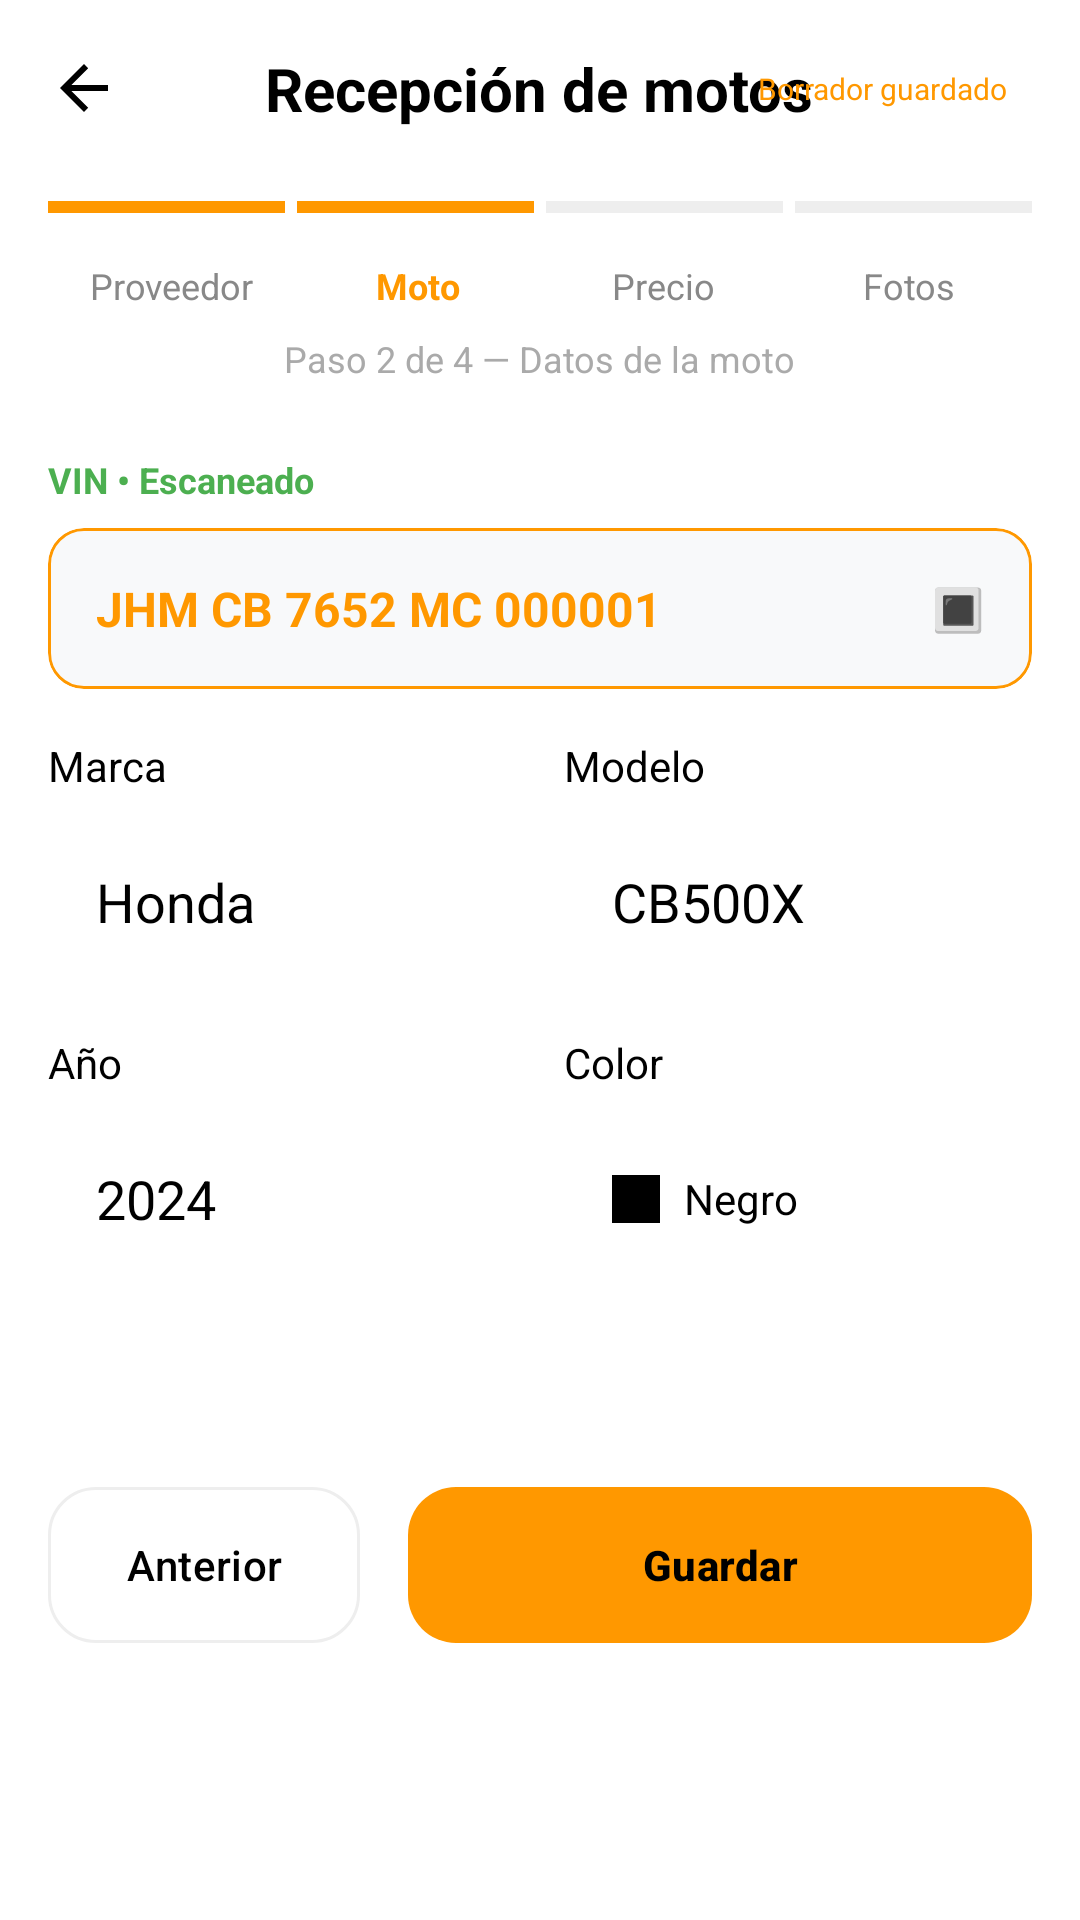

Icon click points for this 1080px×1920px phone screenshot, format (x,y):
ab back: (84,88)
